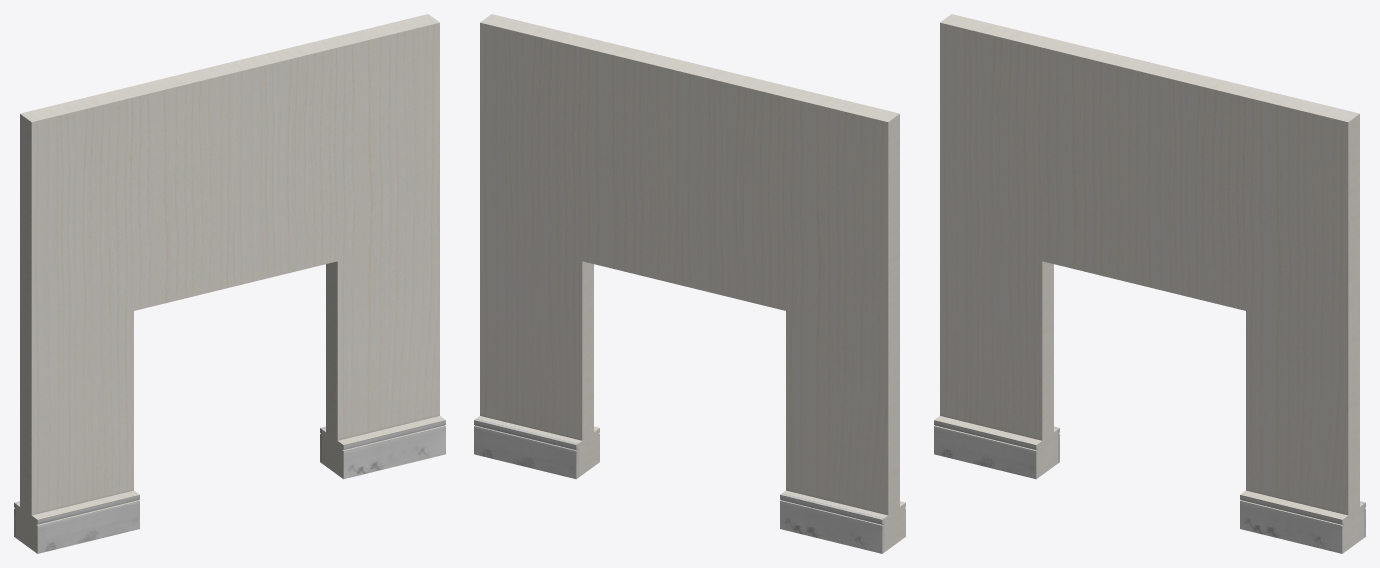
Rendered from WallDoor_SM.FBX.
The picture shows the model from 3 angles, left to right: view 1: azimuth 30°, elevation 25°; view 2: azimuth 150°, elevation 25°; view 3: azimuth 330°, elevation 25°; orthographic projection.
Visible parts, largest first — view 1: ModularWallDoor; view 2: ModularWallDoor; view 3: ModularWallDoor.
Part boxes in pixels (bbox=[...]): ModularWallDoor: bbox=[14, 14, 445, 553]; ModularWallDoor: bbox=[474, 14, 905, 553]; ModularWallDoor: bbox=[934, 14, 1365, 553].
Size of what is drawn, in the model's own units: 400 by 40 by 400.
Materials: 1 (1 with a texture image).
